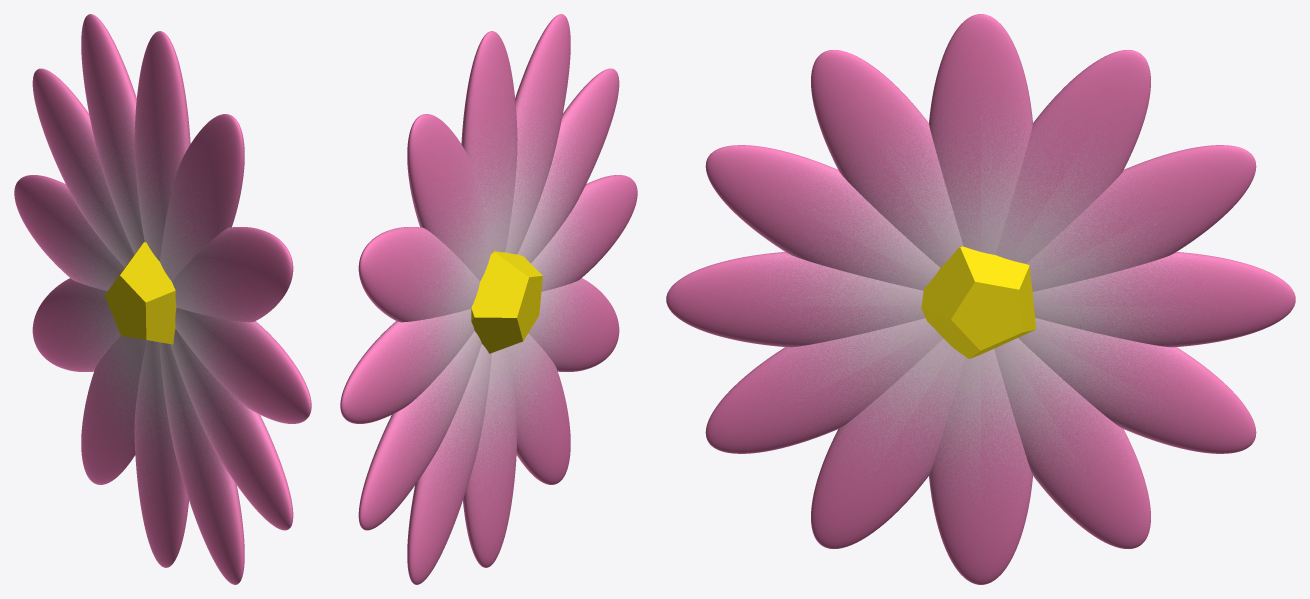
The model's file is SummerComingLefty.gltf.
3 renders of one model, left to right at view 1: azimuth 30°, elevation 25°; view 2: azimuth 150°, elevation 25°; view 3: azimuth 270°, elevation 25°, orthographic. The views are drawn at different scales.
Visible parts, largest first — view 1: Sphere 15, Sphere 5, Sphere 14, Sphere 4, Sphere 6, Sphere 13, Sphere 7, Sphere 12, Sphere 8, Sphere 11, Sphere 9, Sphere 10 (+1 smaller); view 2: Sphere 10, Sphere 9, Sphere 7, Sphere 8, Sphere 6, Sphere 11, Sphere 5, Sphere 12, Sphere 4, Sphere 13, Sphere 15, Sphere 14 (+1 smaller); view 3: Sphere 6, Sphere 7, Sphere 5, Sphere 4, Sphere 8, Sphere 9, Sphere 15, Sphere 14, Sphere 10, Sphere 11, Sphere 13, Sphere 12 (+1 smaller).
Part boxes in pixels (<box>): Sphere 15: <box>175,307,311,423</box>; Sphere 5: <box>160,114,244,281</box>; Sphere 14: <box>170,328,293,530</box>; Sphere 4: <box>172,227,293,322</box>; Sphere 6: <box>134,31,190,261</box>; Sphere 13: <box>159,342,244,584</box>; Sphere 7: <box>81,14,144,254</box>; Sphere 12: <box>134,340,188,567</box>; Sphere 8: <box>32,68,134,267</box>; Sphere 11: <box>81,335,146,484</box>; Sphere 9: <box>14,175,124,290</box>; Sphere 10: <box>32,278,120,371</box>; Sphere 10: <box>358,331,481,530</box>; Sphere 9: <box>340,309,474,423</box>; Sphere 7: <box>407,114,491,281</box>; Sphere 8: <box>358,227,479,322</box>; Sphere 6: <box>461,31,517,253</box>; Sphere 11: <box>407,344,491,584</box>; Sphere 5: <box>505,14,570,254</box>; Sphere 12: <box>463,347,517,567</box>; Sphere 4: <box>517,68,619,263</box>; Sphere 13: <box>506,333,570,484</box>; Sphere 15: <box>531,175,637,291</box>; Sphere 14: <box>528,278,619,371</box>; Sphere 6: <box>929,14,1032,254</box>; Sphere 7: <box>995,50,1150,263</box>; Sphere 5: <box>811,50,963,267</box>; Sphere 4: <box>705,145,939,290</box>; Sphere 8: <box>1026,145,1256,291</box>; Sphere 9: <box>1032,252,1295,347</box>; Sphere 15: <box>666,252,925,347</box>; Sphere 14: <box>705,318,943,453</box>; Sphere 10: <box>1018,318,1256,453</box>; Sphere 11: <box>994,338,1150,548</box>; Sphere 13: <box>811,338,965,548</box>; Sphere 12: <box>929,349,1032,584</box>.
Bounding box in the file's own units: 0.0518 × 0.2882 × 0.2882.
2 materials, 1 textured.
